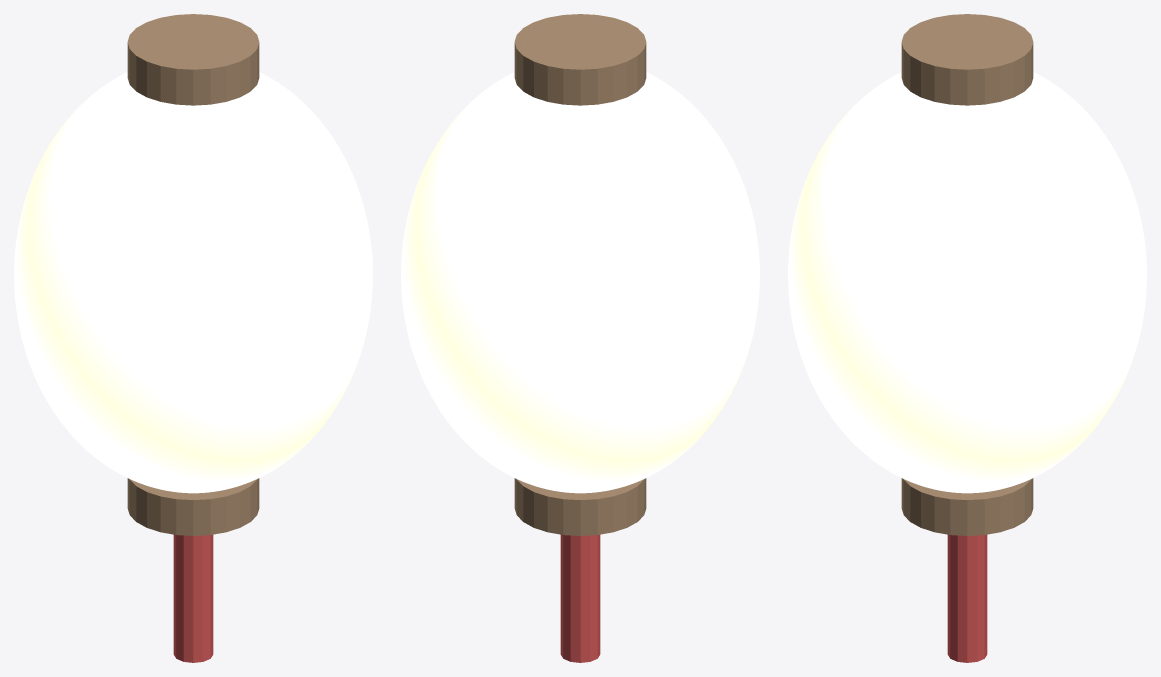
Rendered from paper_lantern.glb.
3 renders of one model, left to right at view 1: azimuth 30°, elevation 25°; view 2: azimuth 150°, elevation 25°; view 3: azimuth 270°, elevation 25°, orthographic.
Visible parts, largest first — view 1: Lantern_Paper, Lantern_TopCap, Lantern_BottomCap, Lantern_Tassel; view 2: Lantern_Paper, Lantern_TopCap, Lantern_BottomCap, Lantern_Tassel; view 3: Lantern_Paper, Lantern_TopCap, Lantern_BottomCap, Lantern_Tassel.
Part boxes in pixels (bbox=[...]): Lantern_Paper: bbox=[14, 72, 372, 493]; Lantern_TopCap: bbox=[127, 14, 259, 105]; Lantern_BottomCap: bbox=[127, 478, 259, 535]; Lantern_Tassel: bbox=[173, 534, 213, 662]; Lantern_Paper: bbox=[401, 72, 759, 493]; Lantern_TopCap: bbox=[514, 14, 646, 105]; Lantern_BottomCap: bbox=[514, 478, 646, 535]; Lantern_Tassel: bbox=[560, 534, 600, 662]; Lantern_Paper: bbox=[788, 72, 1146, 493]; Lantern_TopCap: bbox=[901, 14, 1033, 105]; Lantern_BottomCap: bbox=[901, 478, 1033, 535]; Lantern_Tassel: bbox=[947, 534, 987, 662].
Bounding box in the file's own units: 0.1088 × 0.205 × 0.1088.
